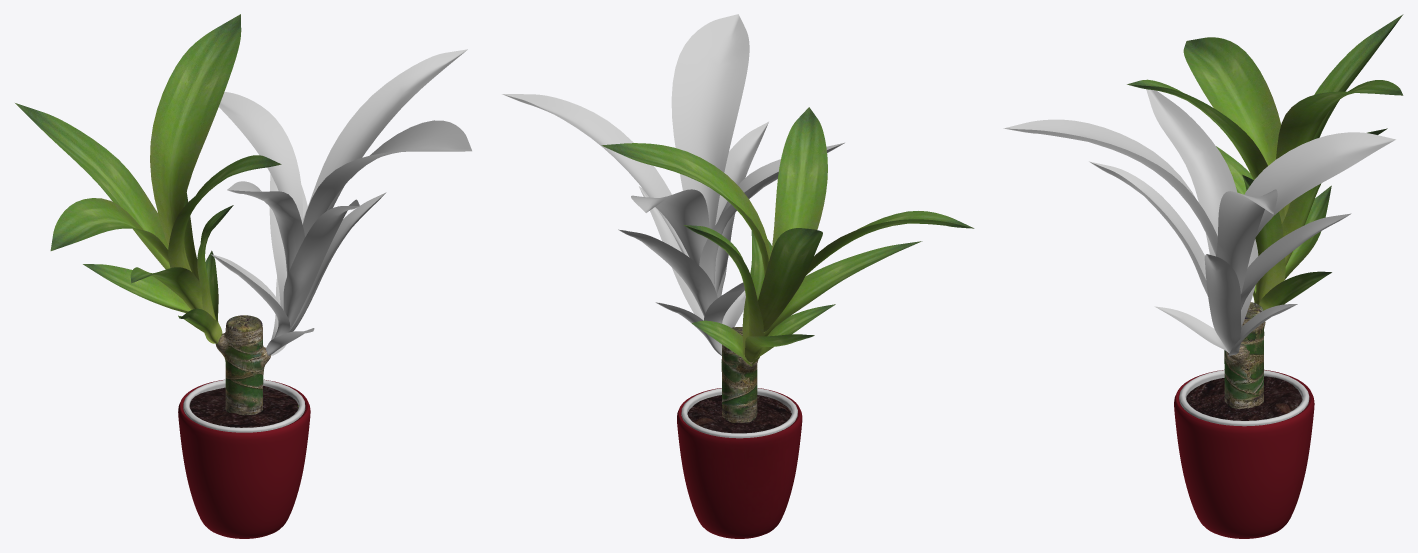
Rendered from indoor plant_02-new.obj.
3 views of the same model, side by side, from view 1: azimuth 30°, elevation 25°; view 2: azimuth 150°, elevation 25°; view 3: azimuth 270°, elevation 25° (orthographic). The views are drawn at different scales.
Visible parts, largest first — view 1: indoor_plant_02; view 2: indoor_plant_02; view 3: indoor_plant_02.
Part boxes in pixels (x1,y1,x2,y2): indoor_plant_02: [15, 14, 471, 538]; indoor_plant_02: [502, 14, 974, 538]; indoor_plant_02: [1003, 14, 1403, 538].
Bounding box in the file's own units: 6.82 × 6.22 × 4.86.
